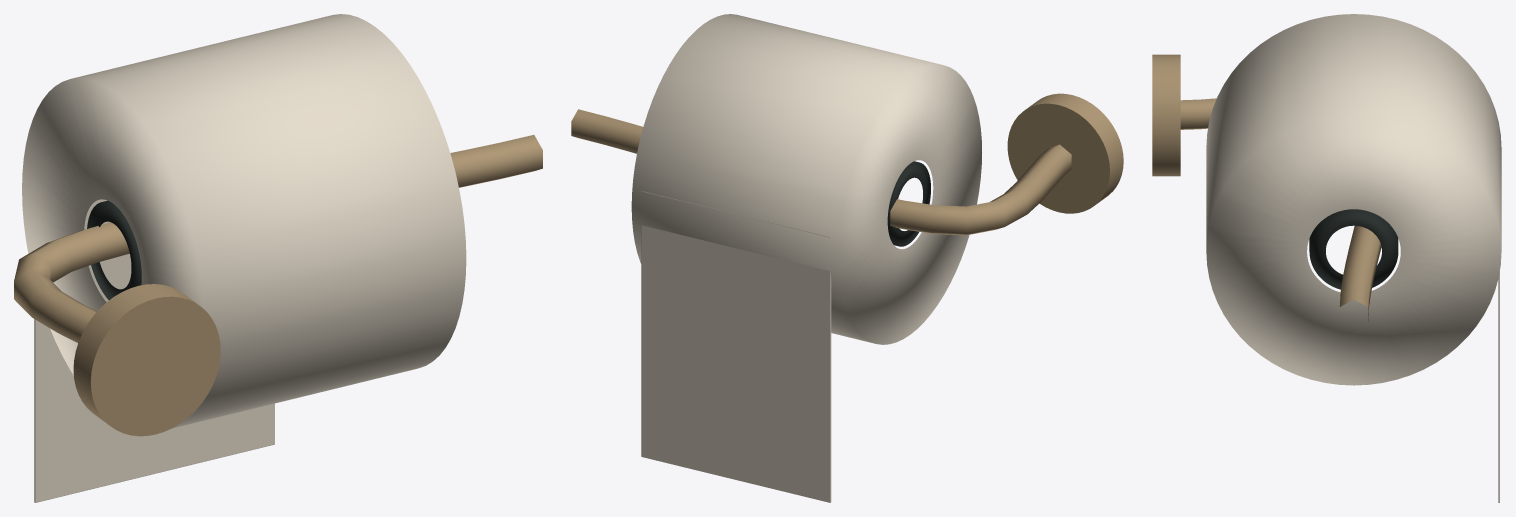
File: bath-paper-holder.glb
The picture shows the model from 3 angles, left to right: view 1: azimuth 30°, elevation 25°; view 2: azimuth 150°, elevation 25°; view 3: azimuth 270°, elevation 25°; orthographic projection. The views are drawn at different scales.
Parts seen in each view (by area): view 1: paper_surfaces, bronze_surfaces, dark_surfaces; view 2: paper_surfaces, bronze_surfaces, dark_surfaces; view 3: paper_surfaces, bronze_surfaces, dark_surfaces.
Boxes of the visible parts, box(x1,y1,x2,y2) form: paper_surfaces: box(22, 14, 466, 502); bronze_surfaces: box(14, 135, 542, 436); dark_surfaces: box(87, 200, 141, 300); paper_surfaces: box(631, 14, 981, 502); bronze_surfaces: box(571, 93, 1123, 235); dark_surfaces: box(887, 161, 930, 246); paper_surfaces: box(1206, 14, 1501, 502); bronze_surfaces: box(1152, 54, 1381, 321); dark_surfaces: box(1309, 209, 1398, 289).
Size of the model in its own units: 0.227 by 0.1835 by 0.149.
